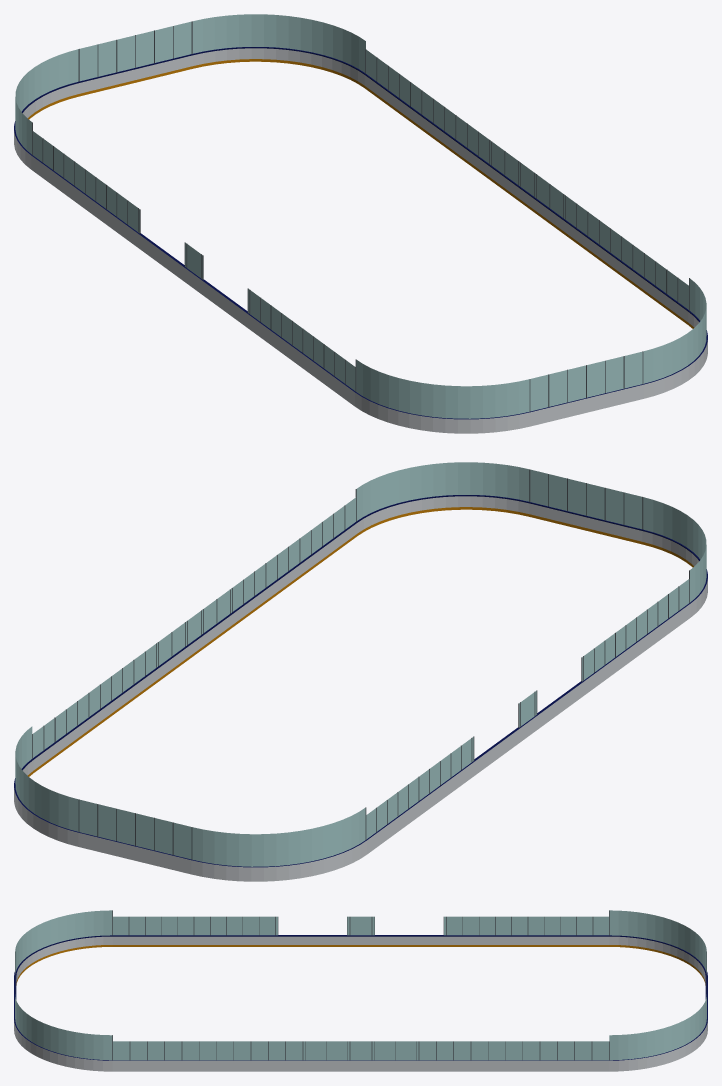
File: boards.obj
The picture shows the model from 3 angles, top to bottom: view 1: azimuth 30°, elevation 25°; view 2: azimuth 150°, elevation 25°; view 3: azimuth 270°, elevation 25°; orthographic projection. The views are drawn at different scales.
Parts seen in each view (by area): view 1: Glass, Boards, Rail, Stanchions, KickPlate; view 2: Glass, Boards, Rail, Stanchions, KickPlate; view 3: Glass, Boards, Rail, Stanchions, KickPlate.
Part boxes in pixels (x1=…): Glass: x1=15, y1=14, x2=706, y2=418; Boards: x1=14, y1=48, x2=707, y2=433; Rail: x1=14, y1=47, x2=707, y2=419; Stanchions: x1=32, y1=21, x2=689, y2=411; KickPlate: x1=28, y1=59, x2=694, y2=328; Glass: x1=15, y1=462, x2=706, y2=866; Boards: x1=14, y1=496, x2=707, y2=881; Rail: x1=14, y1=495, x2=707, y2=867; Stanchions: x1=32, y1=469, x2=689, y2=859; KickPlate: x1=27, y1=507, x2=693, y2=776; Glass: x1=15, y1=910, x2=706, y2=1060; Boards: x1=14, y1=936, x2=707, y2=1071; Rail: x1=14, y1=935, x2=707, y2=1060; Stanchions: x1=15, y1=910, x2=706, y2=1060; KickPlate: x1=16, y1=945, x2=705, y2=985.
Size of the model in its own units: 26.31 by 3.51 by 61.36.
